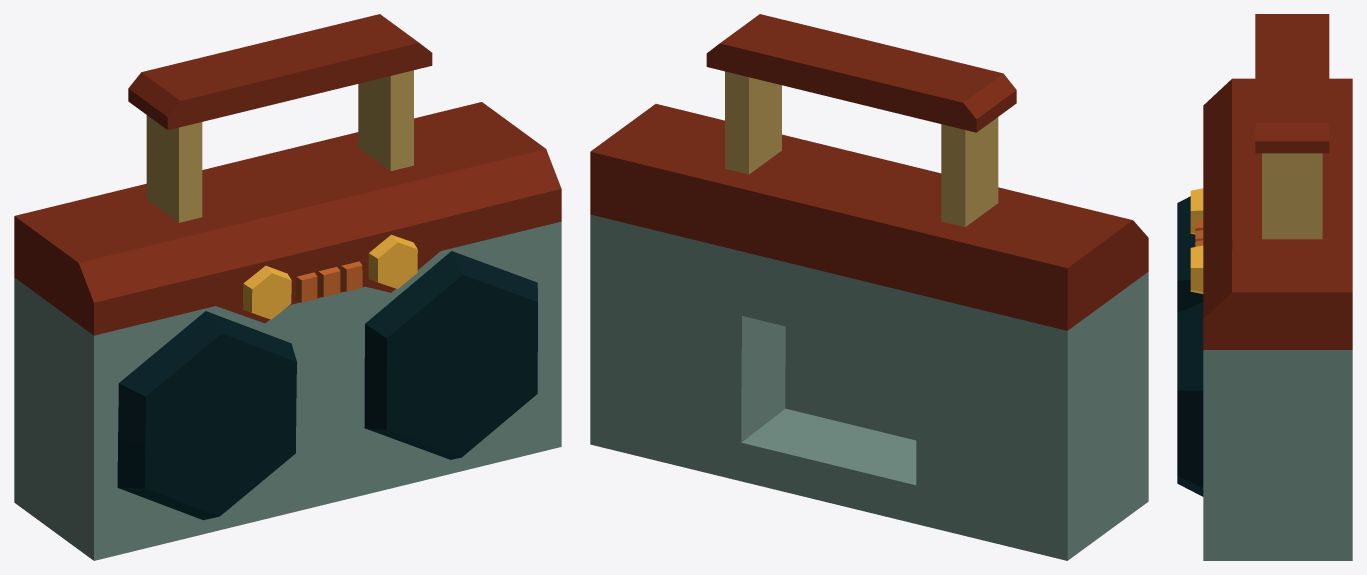
File: boombox.fbx
The picture shows the model from 3 angles, left to right: view 1: azimuth 30°, elevation 25°; view 2: azimuth 150°, elevation 25°; view 3: azimuth 270°, elevation 25°; orthographic projection. The views are drawn at different scales.
Visible parts, largest first — view 1: boombox; view 2: boombox; view 3: boombox.
Boxes of the visible parts, x1=… form: boombox: x1=14, y1=14, x2=561, y2=560; boombox: x1=590, y1=14, x2=1148, y2=560; boombox: x1=1177, y1=14, x2=1352, y2=560.
Bounding box in the file's own units: 218 × 183 × 75.3.
